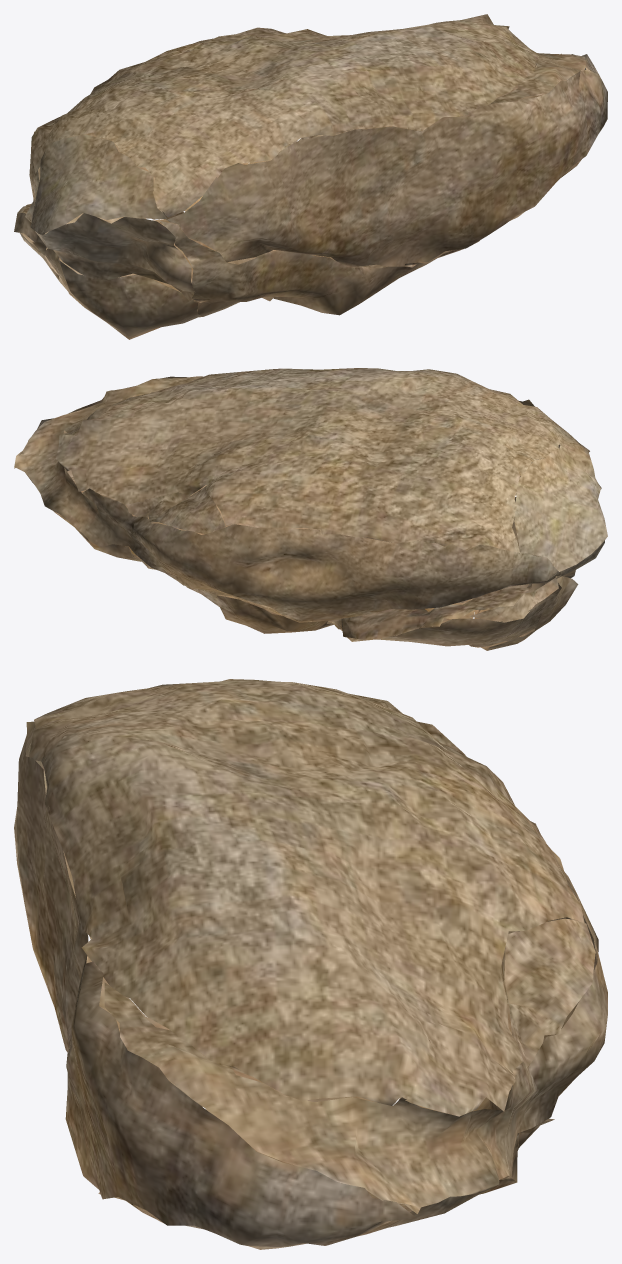
File: namaqualand_boulder_05.glb
3 views of the same model, one above another, from view 1: azimuth 30°, elevation 25°; view 2: azimuth 150°, elevation 25°; view 3: azimuth 270°, elevation 25° (orthographic). The views are drawn at different scales.
Visible parts, largest first — view 1: namaqualand_boulder_05; view 2: namaqualand_boulder_05; view 3: namaqualand_boulder_05.
Boxes of the visible parts, left/top/right/bottom form: namaqualand_boulder_05: left=14, top=14, right=607, bottom=339; namaqualand_boulder_05: left=14, top=368, right=607, bottom=650; namaqualand_boulder_05: left=14, top=679, right=607, bottom=1249.
Size of the model in its own units: 1.36 by 0.5261 by 0.7392.
Materials: 1 (1 with a texture image).
